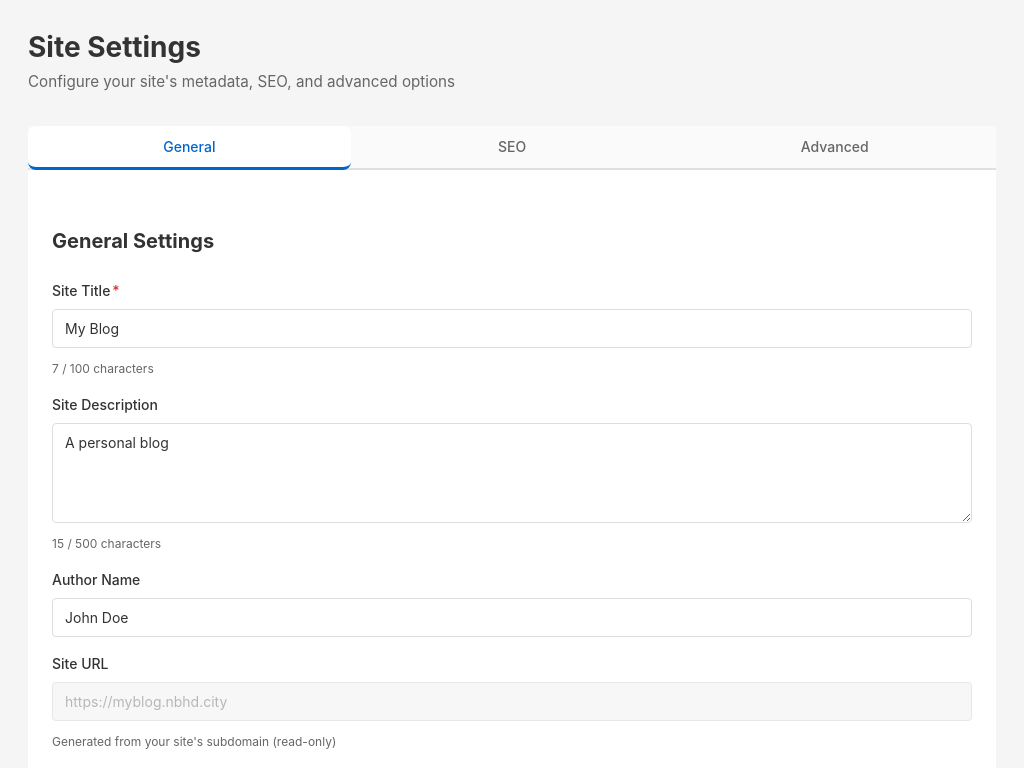
Scenario: SiteSettingsManager › shows success toast notification when settings are saved
The image size is (1024, 768).
Replace the text in the field labelled "Site Title*" with "New Title" at (512, 328), box left=52, top=309, right=972, bottom=348
(page scrolled)
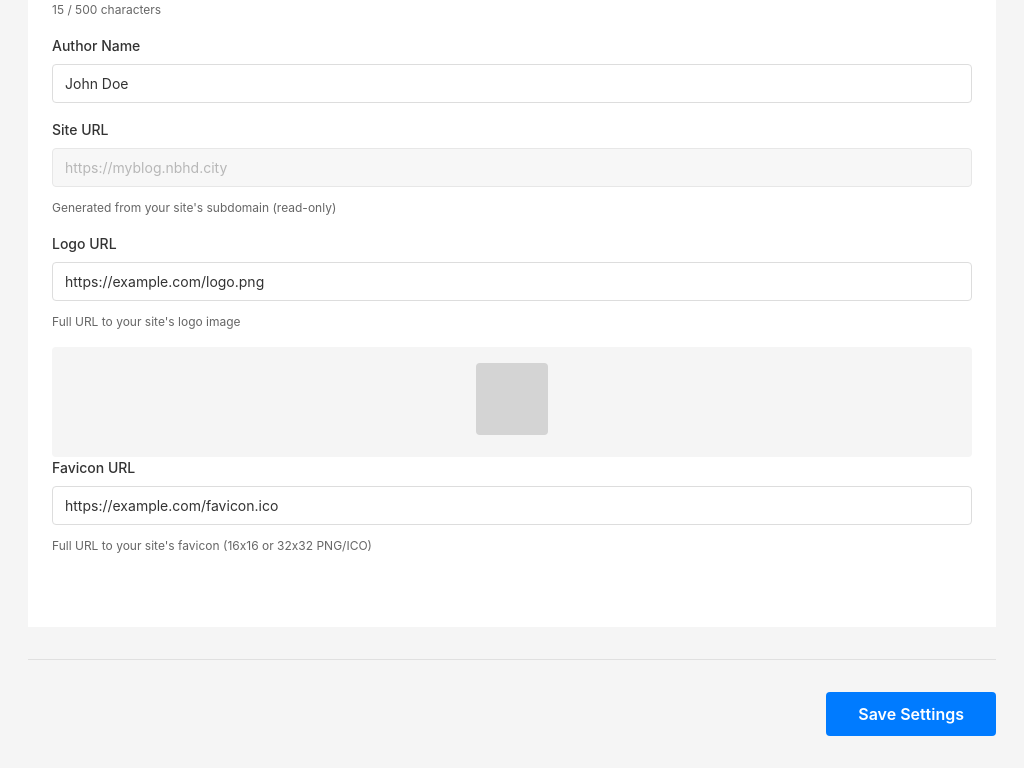
Click the button "Save Settings" at (911, 714), box left=826, top=692, right=996, bottom=736
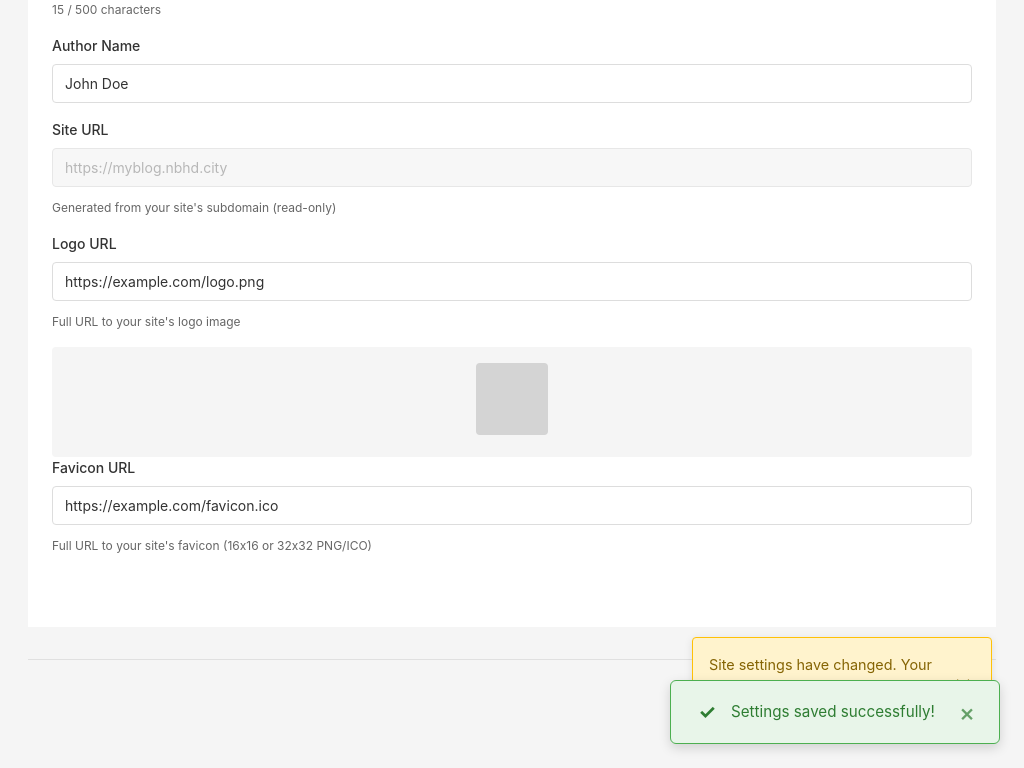
Now the text "Settings saved successfully!" is shown, box left=731, top=701, right=935, bottom=723
